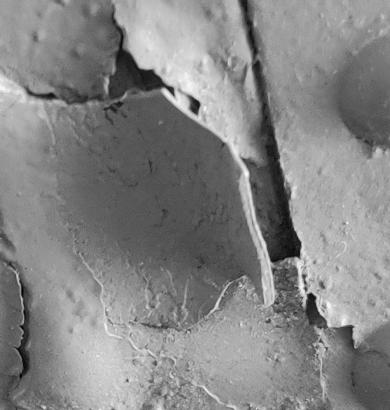crack: (0, 1, 390, 410)
